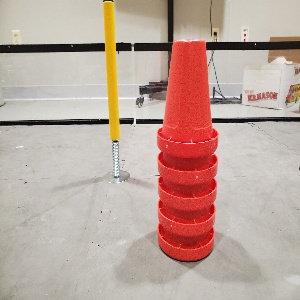Red_5: (155, 42, 218, 255)
